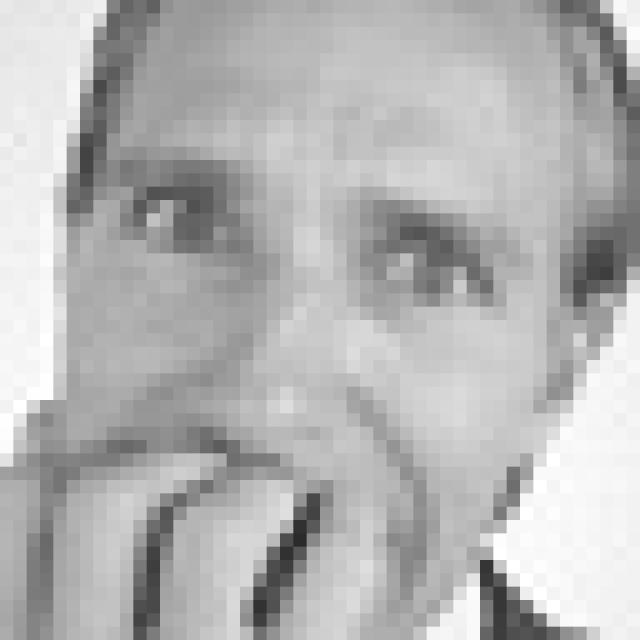fear: (91, 152, 530, 575)
